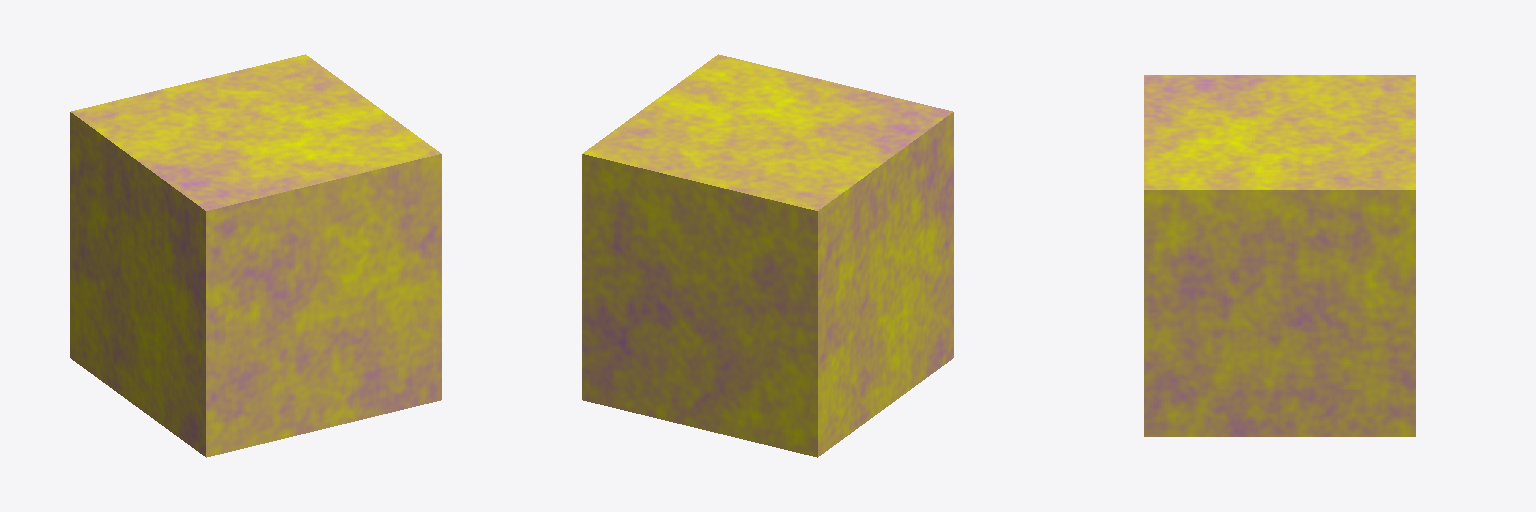
The picture shows the model from 3 angles: view 1: azimuth 30°, elevation 25°; view 2: azimuth 150°, elevation 25°; view 3: azimuth 270°, elevation 25°; orthographic projection.
Visible parts, largest first — view 1: Cube; view 2: Cube; view 3: Cube.
Boxes of the visible parts, x1,y1,x2,y2 form: Cube: [70, 54, 441, 457]; Cube: [582, 54, 953, 457]; Cube: [1144, 75, 1415, 436].
Bounding box in the file's own units: 7 × 7 × 7.
1 materials, 1 textured.